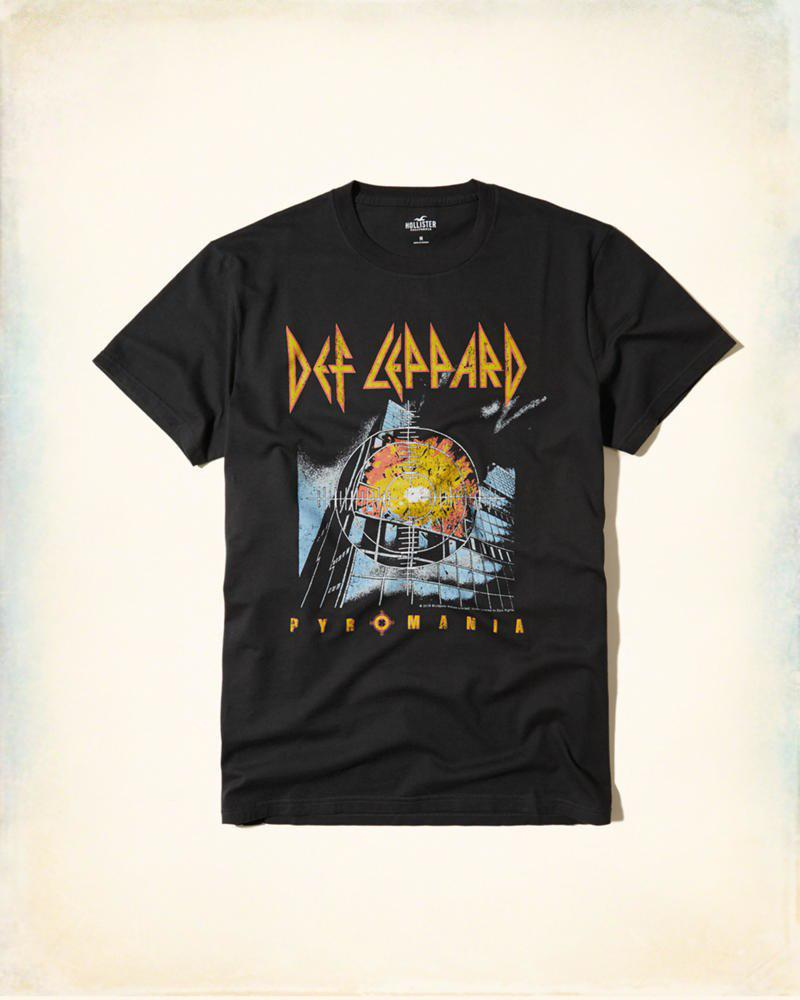teeshirt: (95, 166, 782, 904)
